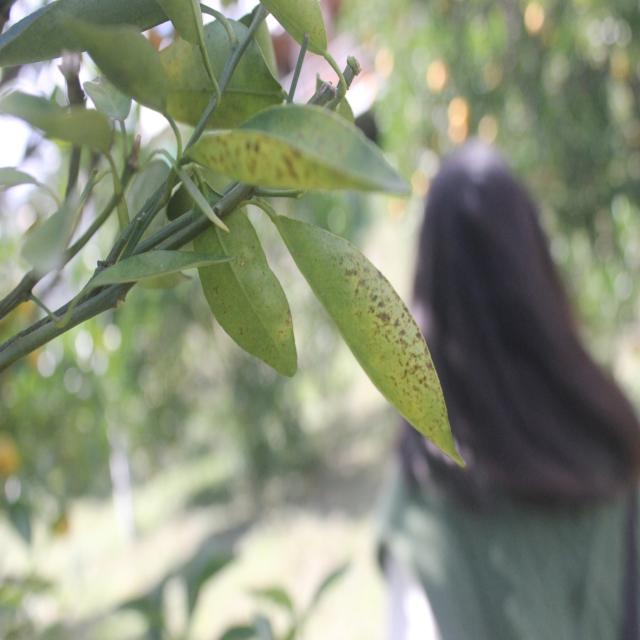melanose: (299, 235, 456, 495), (189, 113, 413, 210)
